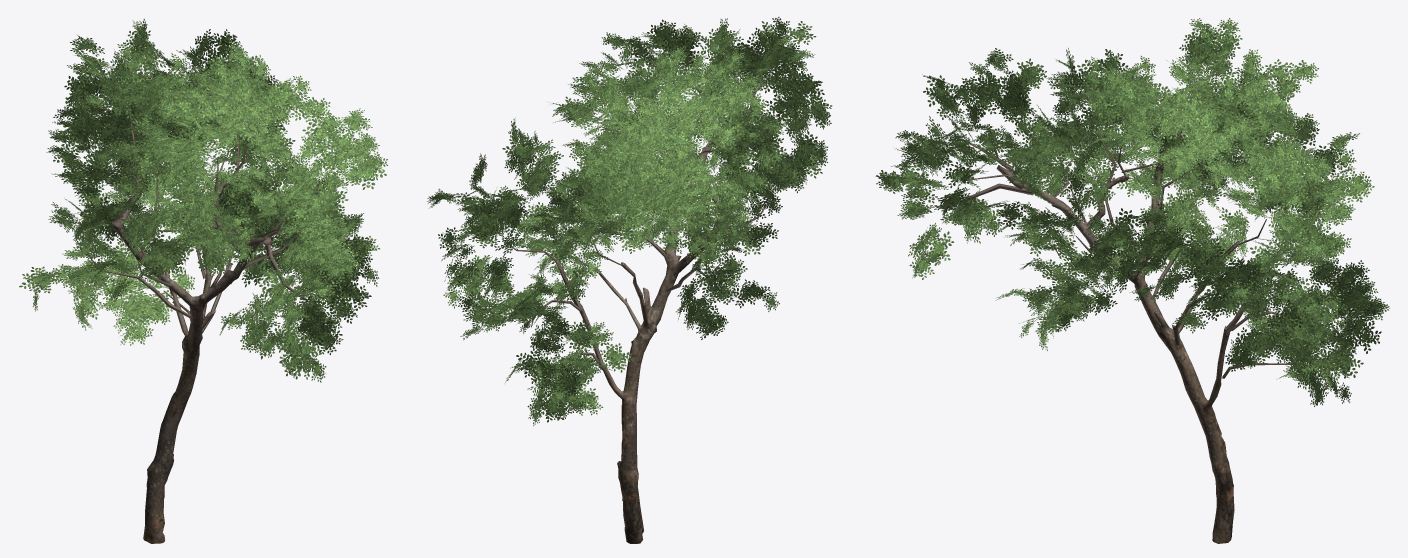
The model's file is tree_small.glb.
The picture shows the model from 3 angles, left to right: view 1: azimuth 30°, elevation 25°; view 2: azimuth 150°, elevation 25°; view 3: azimuth 270°, elevation 25°; orthographic projection. The views are drawn at different scales.
Visible parts, largest first — view 1: tree_small; view 2: tree_small; view 3: tree_small.
Boxes of the visible parts, <box> form: tree_small: <box>19,18,387,543</box>; tree_small: <box>427,17,832,543</box>; tree_small: <box>875,18,1389,543</box>.
Size of the model in its own units: 3.06 by 4.64 by 4.49.
2 materials, 2 textured.
